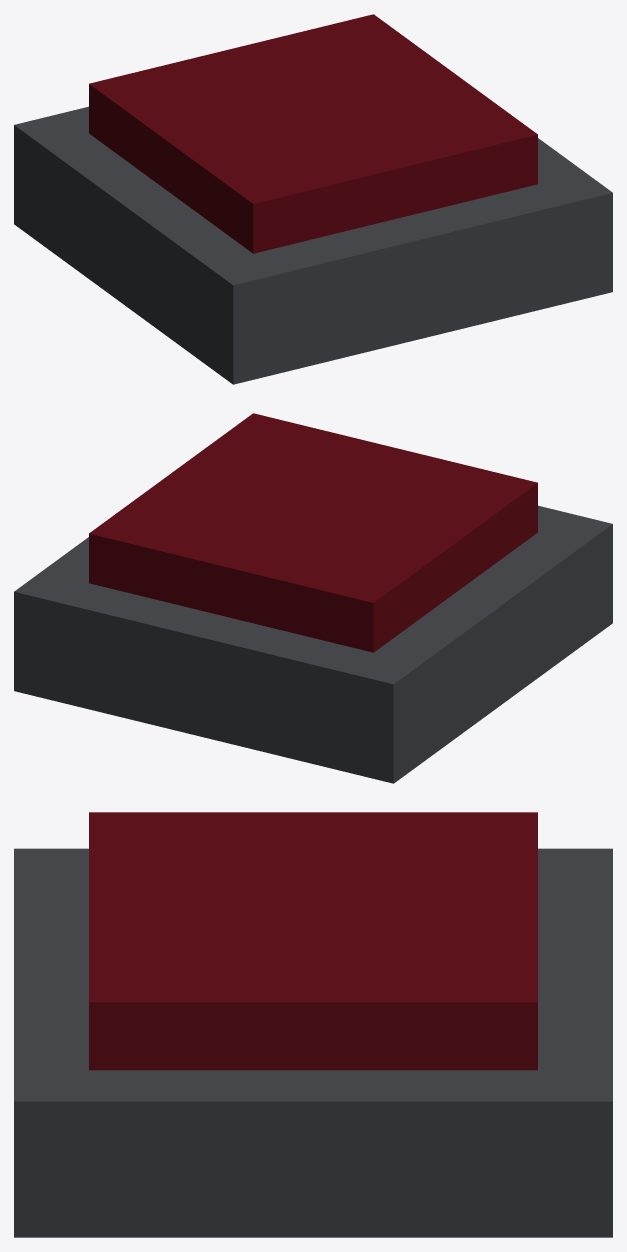
The model's file is Button.gltf.
3 views of the same model, one above another, from view 1: azimuth 30°, elevation 25°; view 2: azimuth 150°, elevation 25°; view 3: azimuth 270°, elevation 25° (orthographic). The views are drawn at different scales.
Visible parts, largest first — view 1: cuboid; view 2: cuboid; view 3: cuboid.
Boxes of the visible parts, bbox=[...] form: cuboid: bbox=[14, 14, 612, 384]; cuboid: bbox=[14, 413, 612, 783]; cuboid: bbox=[14, 812, 612, 1237].
Bounding box in the file's own units: 0.5 × 0.1875 × 0.5.
1 material, 1 textured.
